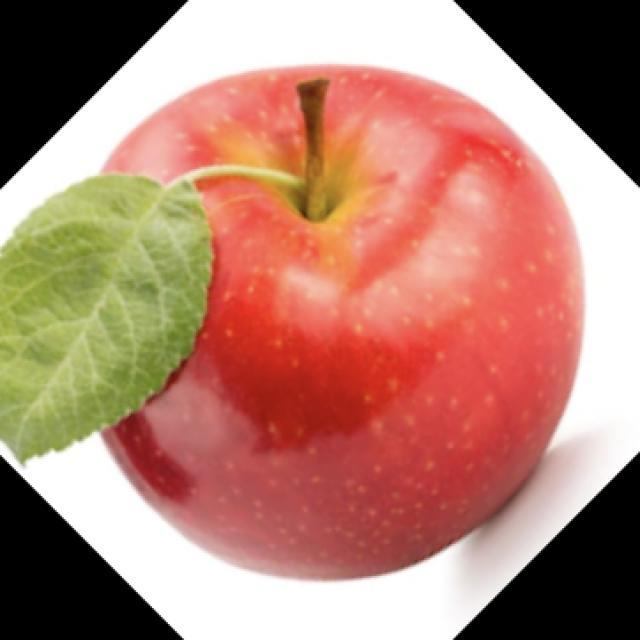Fresh Apple: (41, 59, 586, 582)
